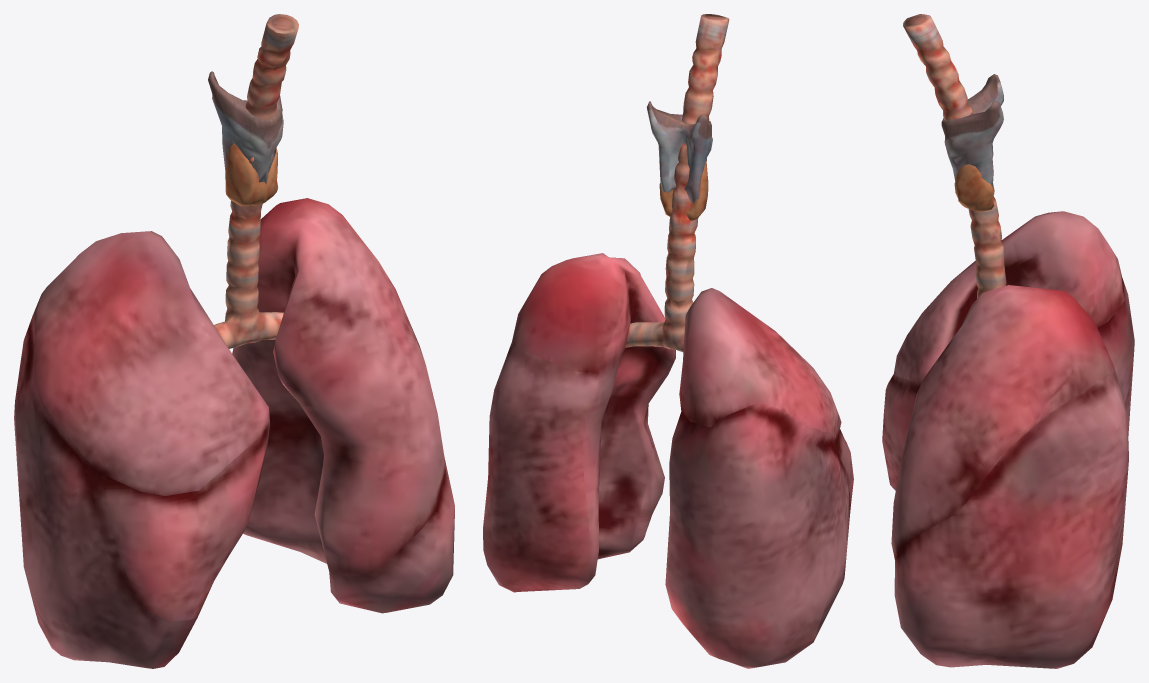
File: PRP_Lungs_lod.glb
The picture shows the model from 3 angles, left to right: view 1: azimuth 30°, elevation 25°; view 2: azimuth 150°, elevation 25°; view 3: azimuth 270°, elevation 25°; orthographic projection. The views are drawn at different scales.
Parts seen in each view (by area): view 1: thairoid01:low_part02_Group6344:Group24638_thairoid01:lungh_, thairoid01:low_part01_Group6344:Group18522_thairoid01:lungh_; view 2: thairoid01:low_part02_Group6344:Group24638_thairoid01:lungh_, thairoid01:low_part01_Group6344:Group18522_thairoid01:lungh_; view 3: thairoid01:low_part02_Group6344:Group24638_thairoid01:lungh_, thairoid01:low_part01_Group6344:Group18522_thairoid01:lungh_.
Part boxes in pixels (left/top/right/bottom): thairoid01:low_part02_Group6344:Group24638_thairoid01:lungh_: left=14, top=198, right=454, bottom=668; thairoid01:low_part01_Group6344:Group18522_thairoid01:lungh_: left=208, top=14, right=298, bottom=348; thairoid01:low_part02_Group6344:Group24638_thairoid01:lungh_: left=483, top=253, right=853, bottom=668; thairoid01:low_part01_Group6344:Group18522_thairoid01:lungh_: left=625, top=14, right=729, bottom=352; thairoid01:low_part02_Group6344:Group24638_thairoid01:lungh_: left=882, top=211, right=1134, bottom=668; thairoid01:low_part01_Group6344:Group18522_thairoid01:lungh_: left=903, top=14, right=1006, bottom=298.
Bounding box in the file's own units: 0.2215 × 0.3676 × 0.1419.
2 materials, 2 textured.
